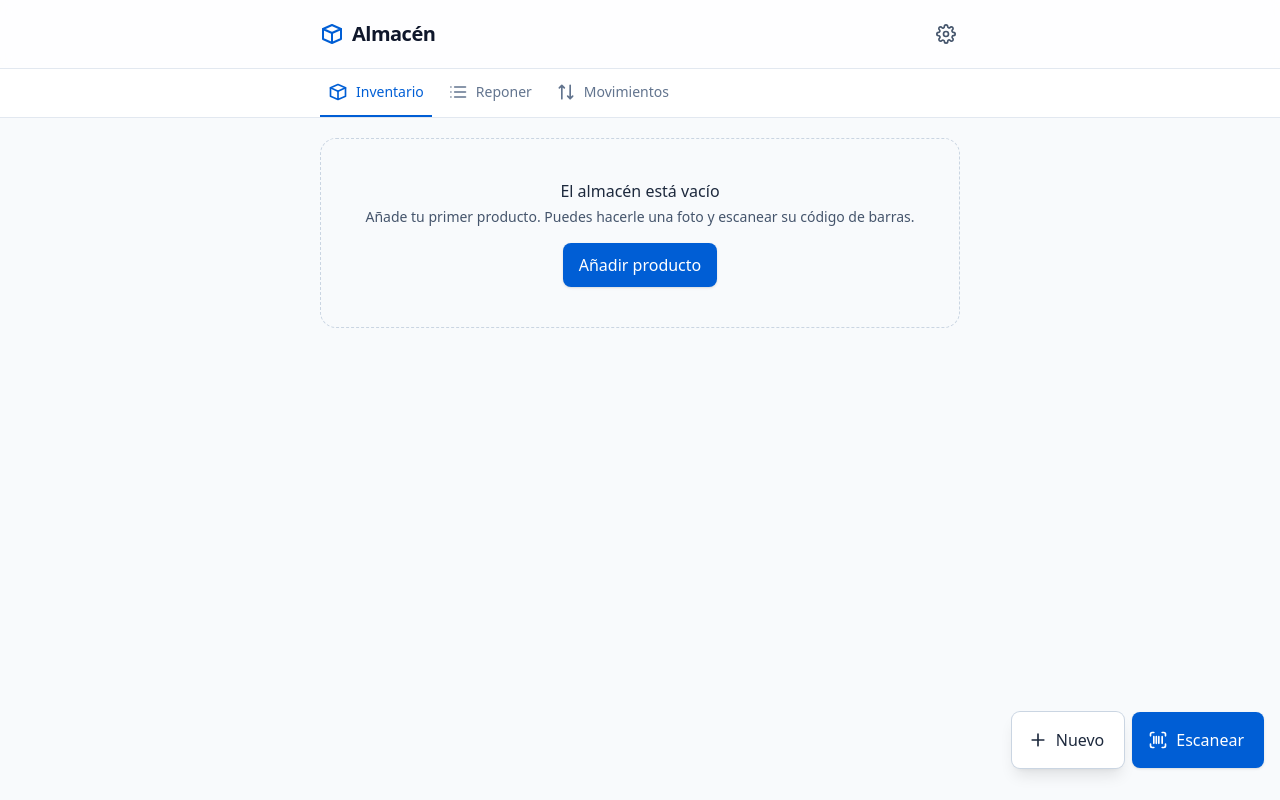
Scenario: MainScreen › creates a product and logs its initial stock
Click the button "Añadir producto": click(640, 265) x1=563 y1=243 x2=717 y2=287
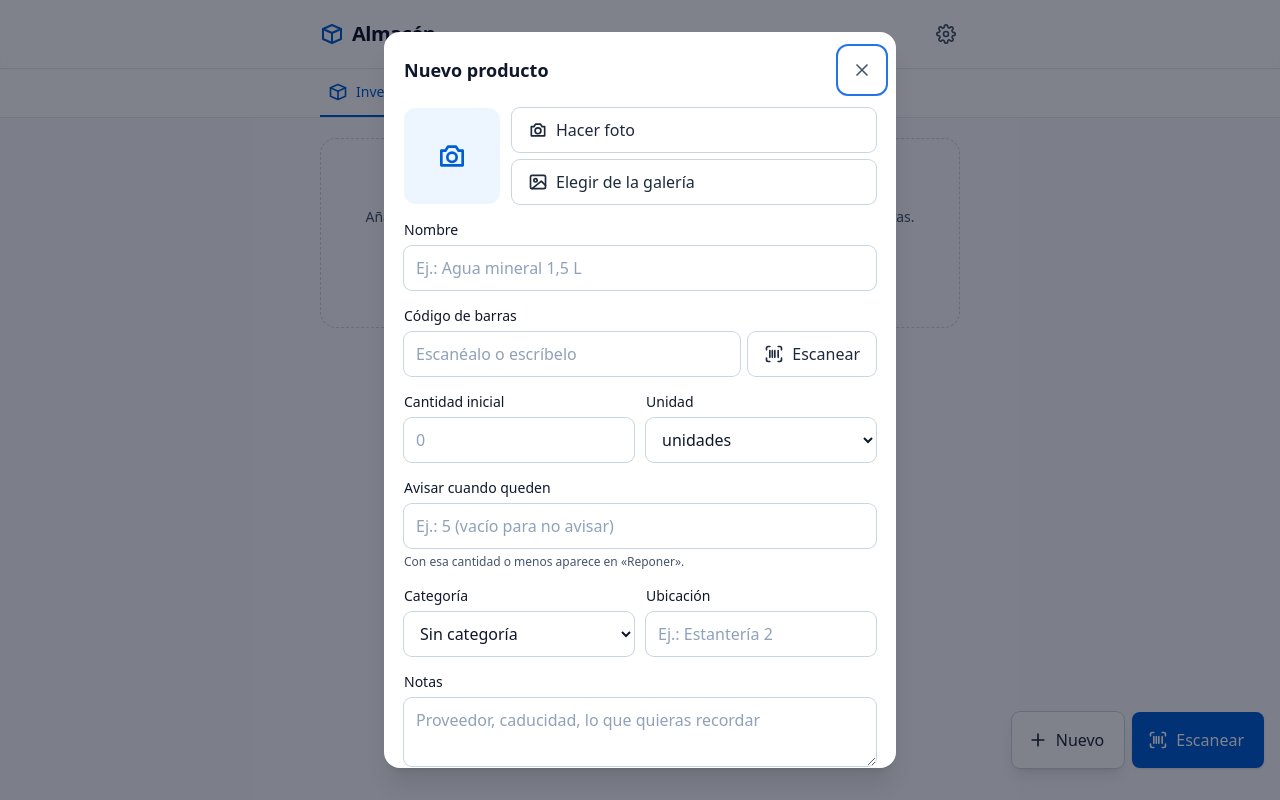
In the field labelled "Nombre": (640, 268) x1=404 y1=246 x2=876 y2=290, type "Lejía 2 L"
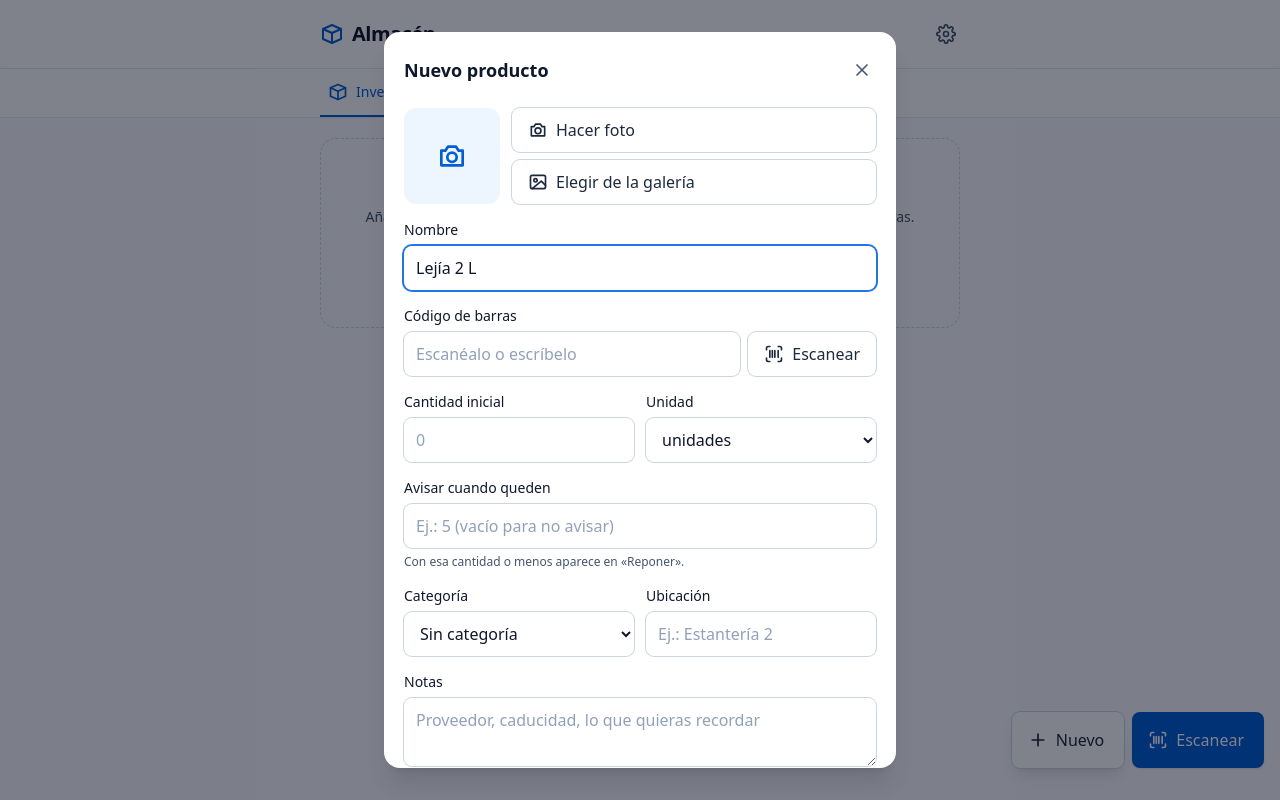
In the field labelled "Cantidad inicial": (519, 440) x1=404 y1=418 x2=634 y2=462, type "6"
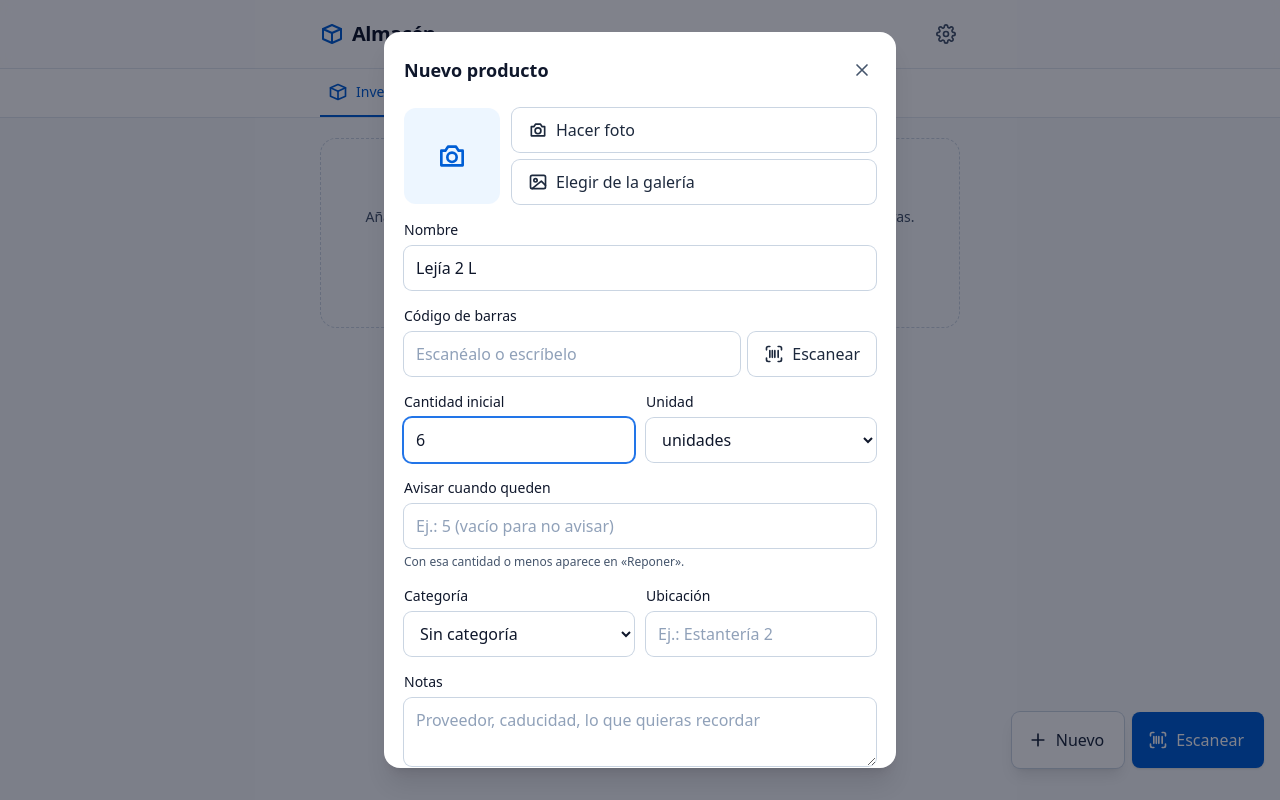
Select "botellas" in the dropdown labelled "Unidad": (761, 440) x1=646 y1=418 x2=876 y2=462
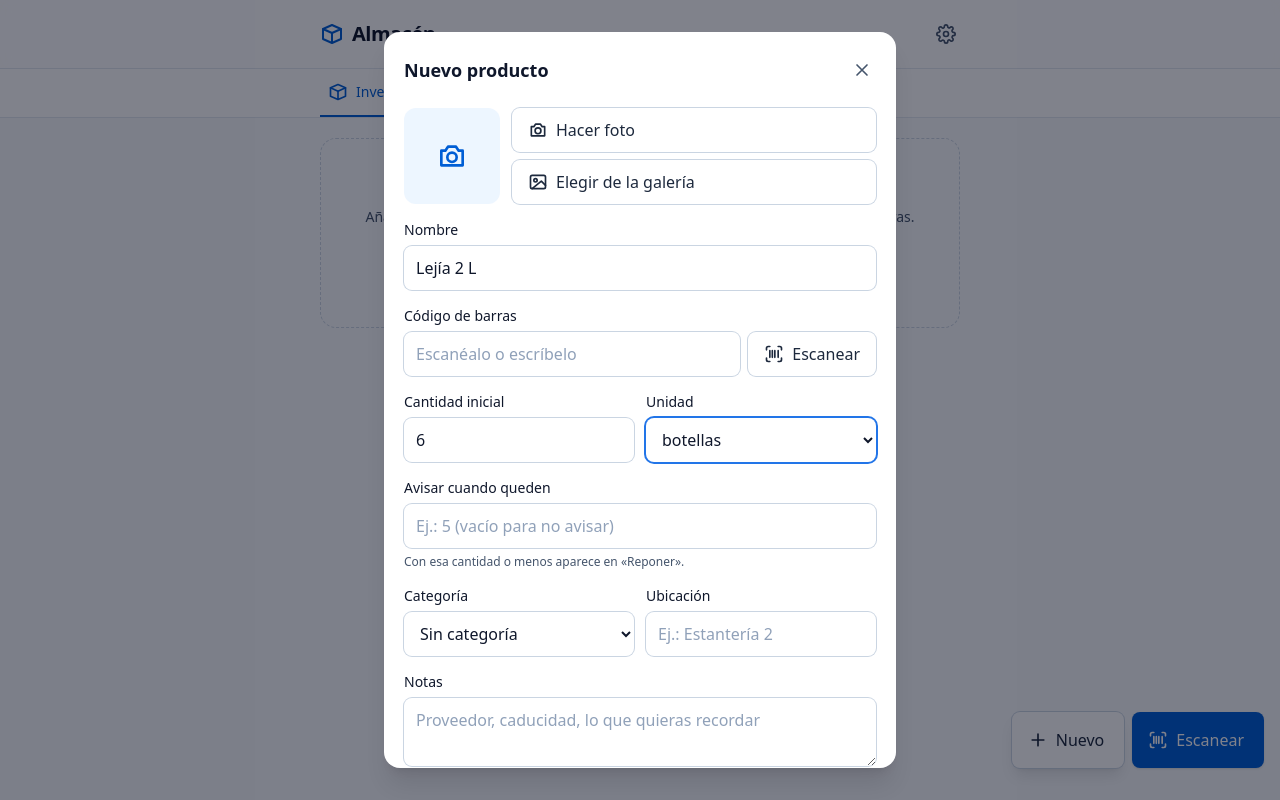
In the field labelled "Avisar cuando queden": (640, 526) x1=404 y1=504 x2=876 y2=548, type "2"
(page scrolled)
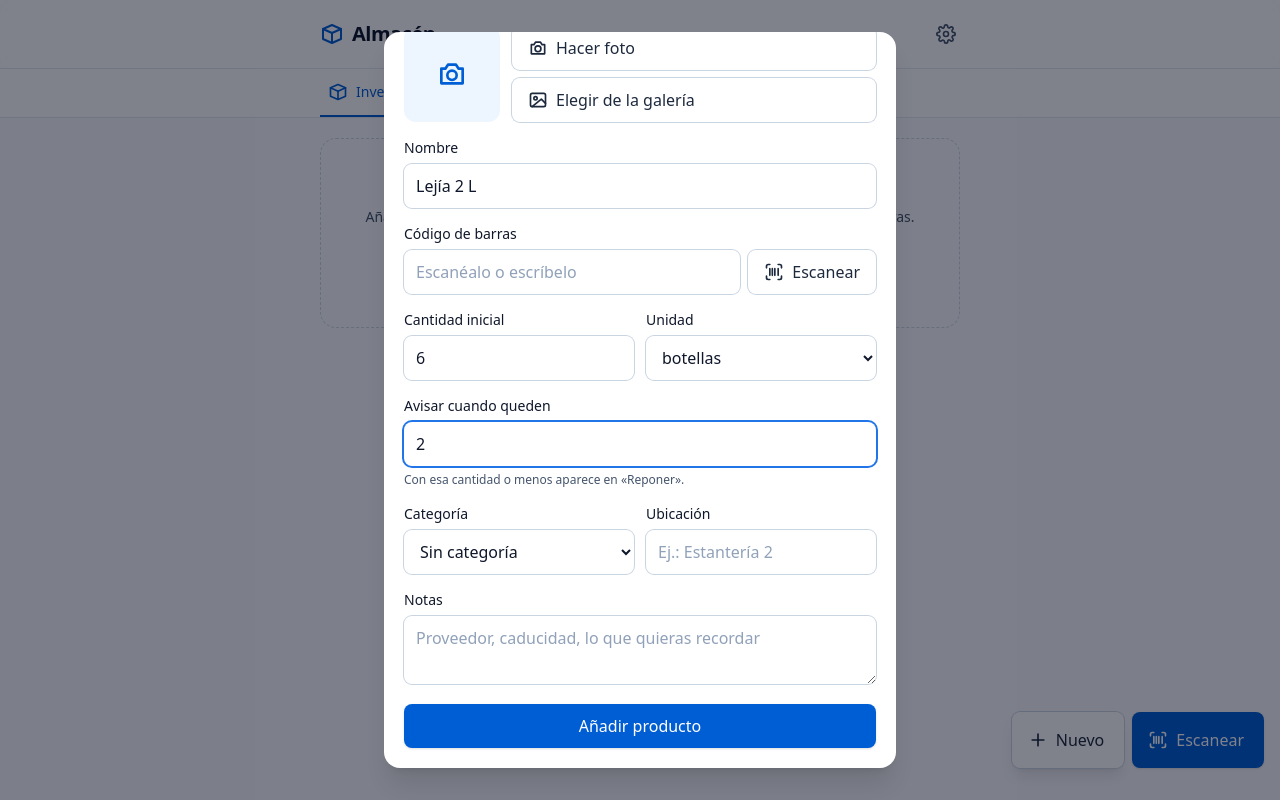
Click the button "Añadir producto": click(640, 726) x1=404 y1=704 x2=876 y2=748
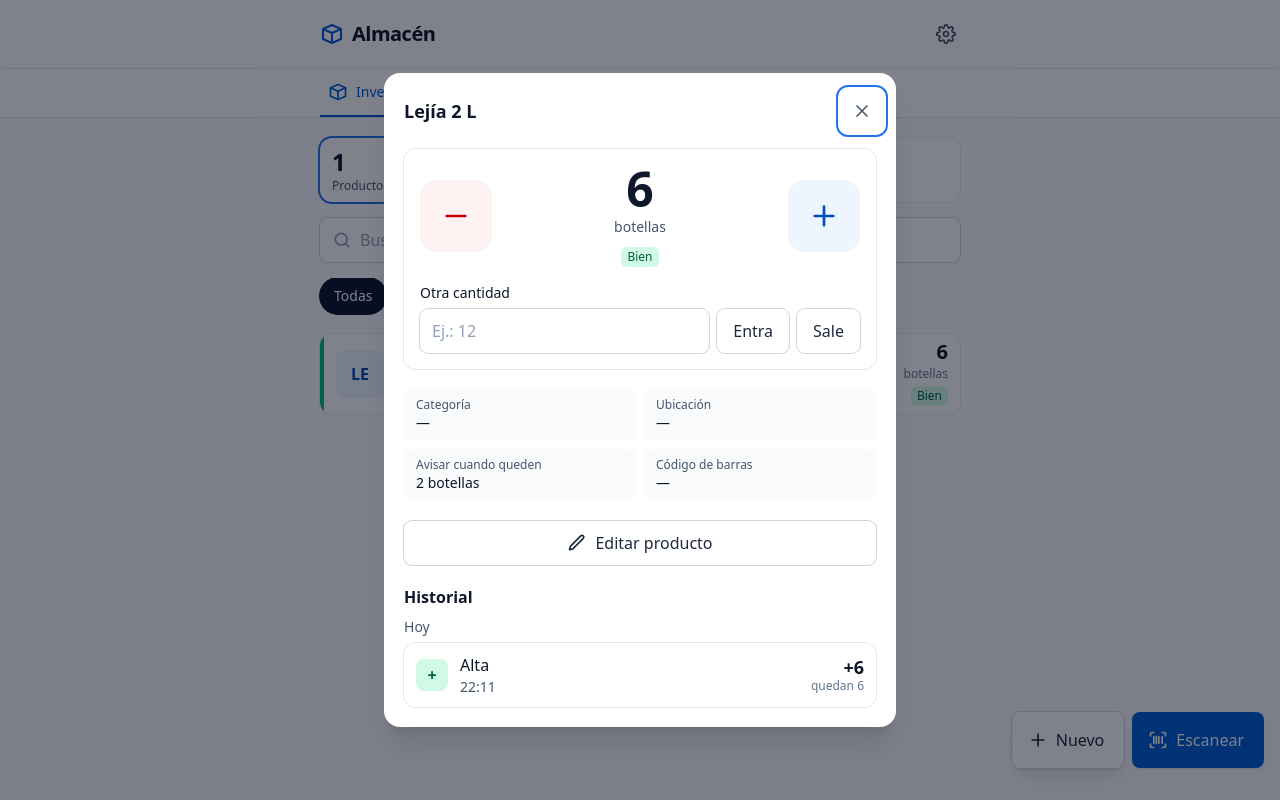
Check: the dialog "Lejía 2 L" is shown, box x1=384 y1=73 x2=896 y2=727
